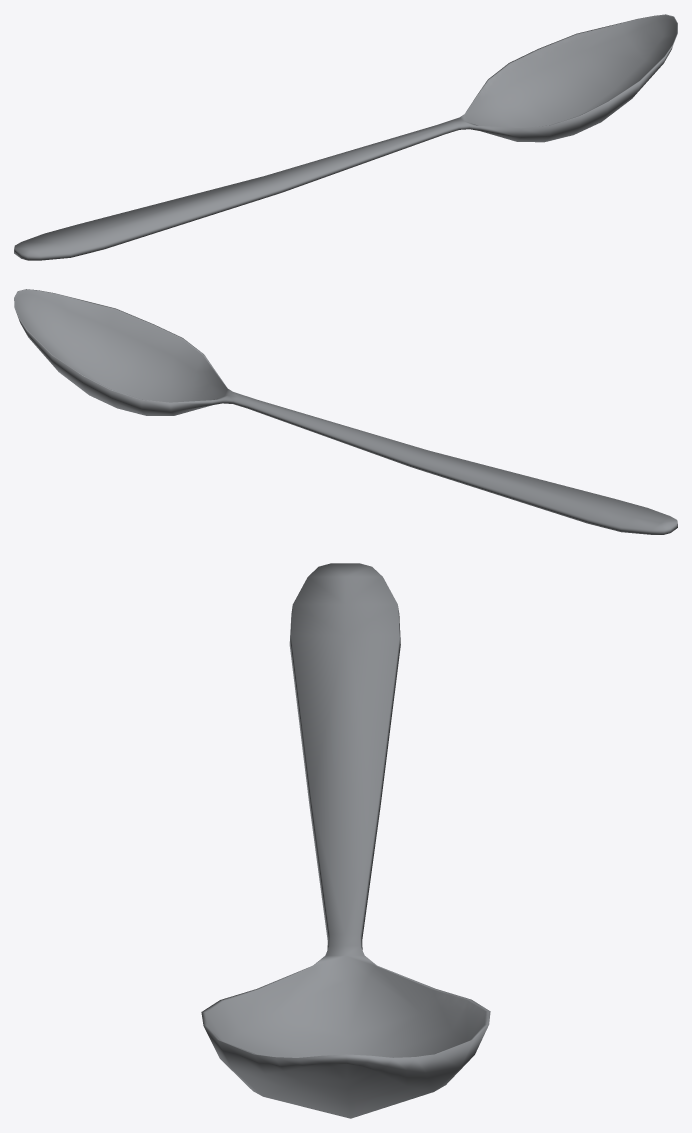
File: Spoon01.FBX
The picture shows the model from 3 angles, top to bottom: view 1: azimuth 30°, elevation 25°; view 2: azimuth 150°, elevation 25°; view 3: azimuth 270°, elevation 25°; orthographic projection. The views are drawn at different scales.
Visible parts, largest first — view 1: Spoon01_LOD0; view 2: Spoon01_LOD0; view 3: Spoon01_LOD0.
Part boxes in pixels (bbox=[...]): Spoon01_LOD0: bbox=[14, 14, 677, 260]; Spoon01_LOD0: bbox=[14, 289, 677, 534]; Spoon01_LOD0: bbox=[201, 563, 490, 1118].
Size of the model in its own units: 20.98 by 4 by 2.49.
